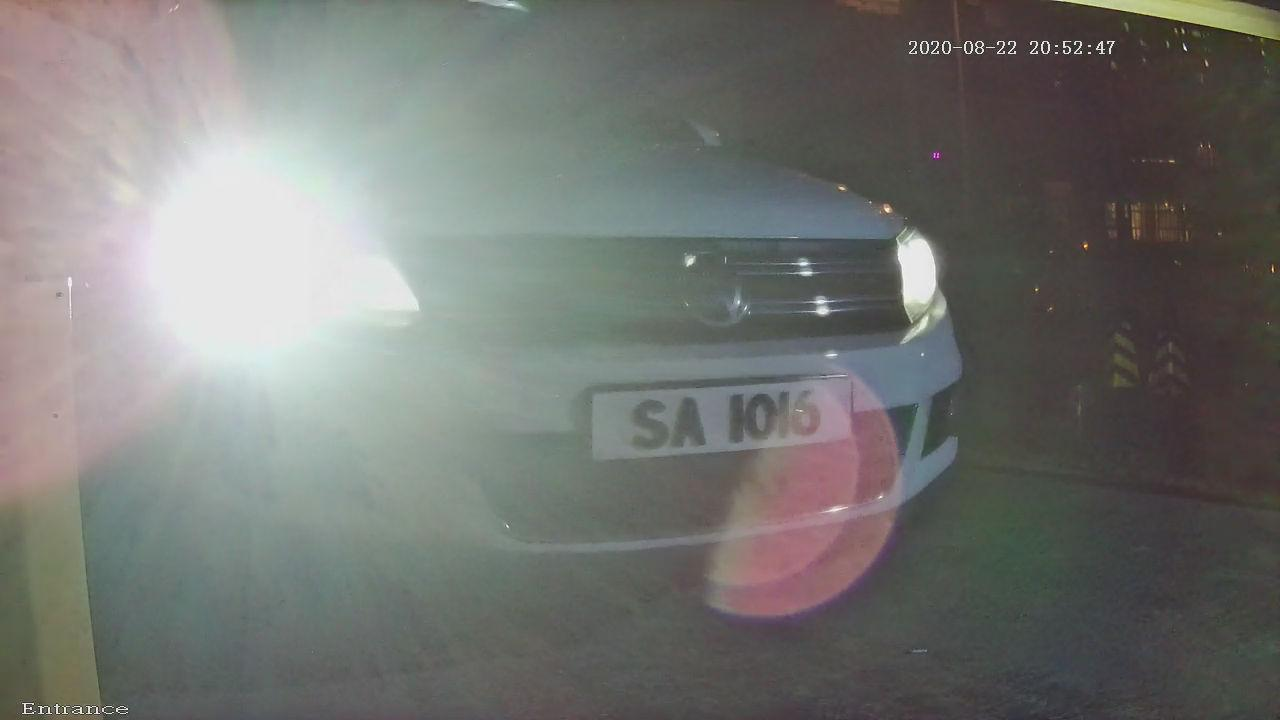License Plate: (530, 354, 875, 500)
